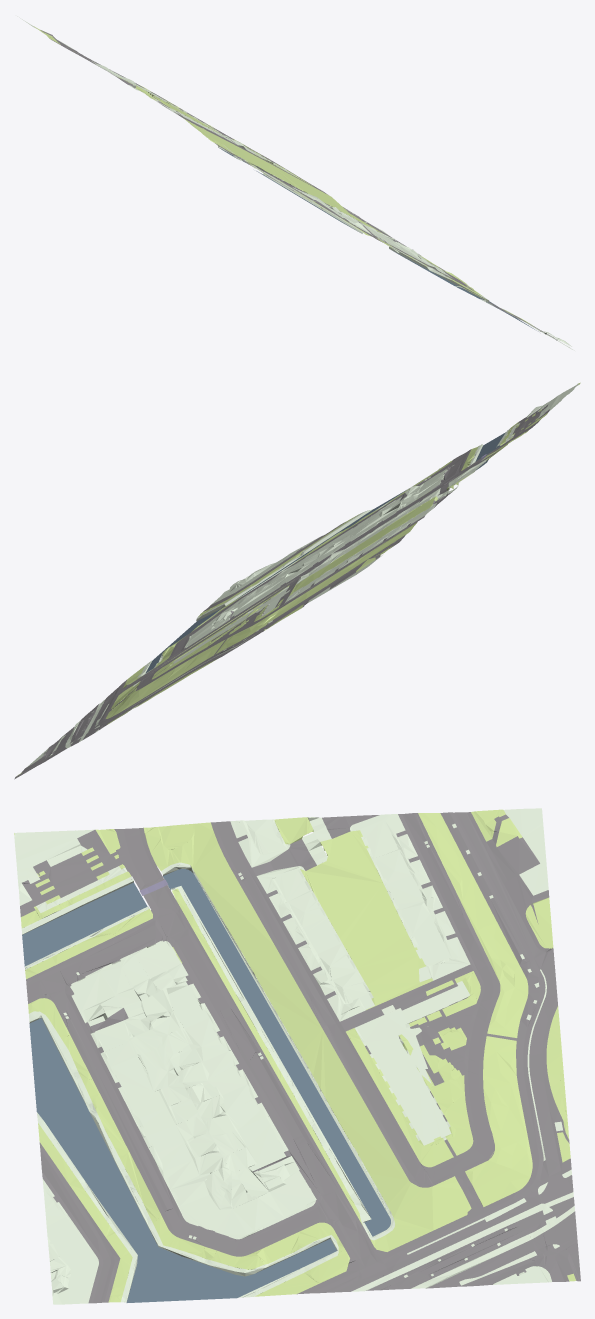
3 renders of one model, top to bottom at view 1: azimuth 30°, elevation 25°; view 2: azimuth 150°, elevation 25°; view 3: azimuth 270°, elevation 25°, orthographic. The views are drawn at different scales.
Bounding box in the file's own units: 216 × 159 × 268.
